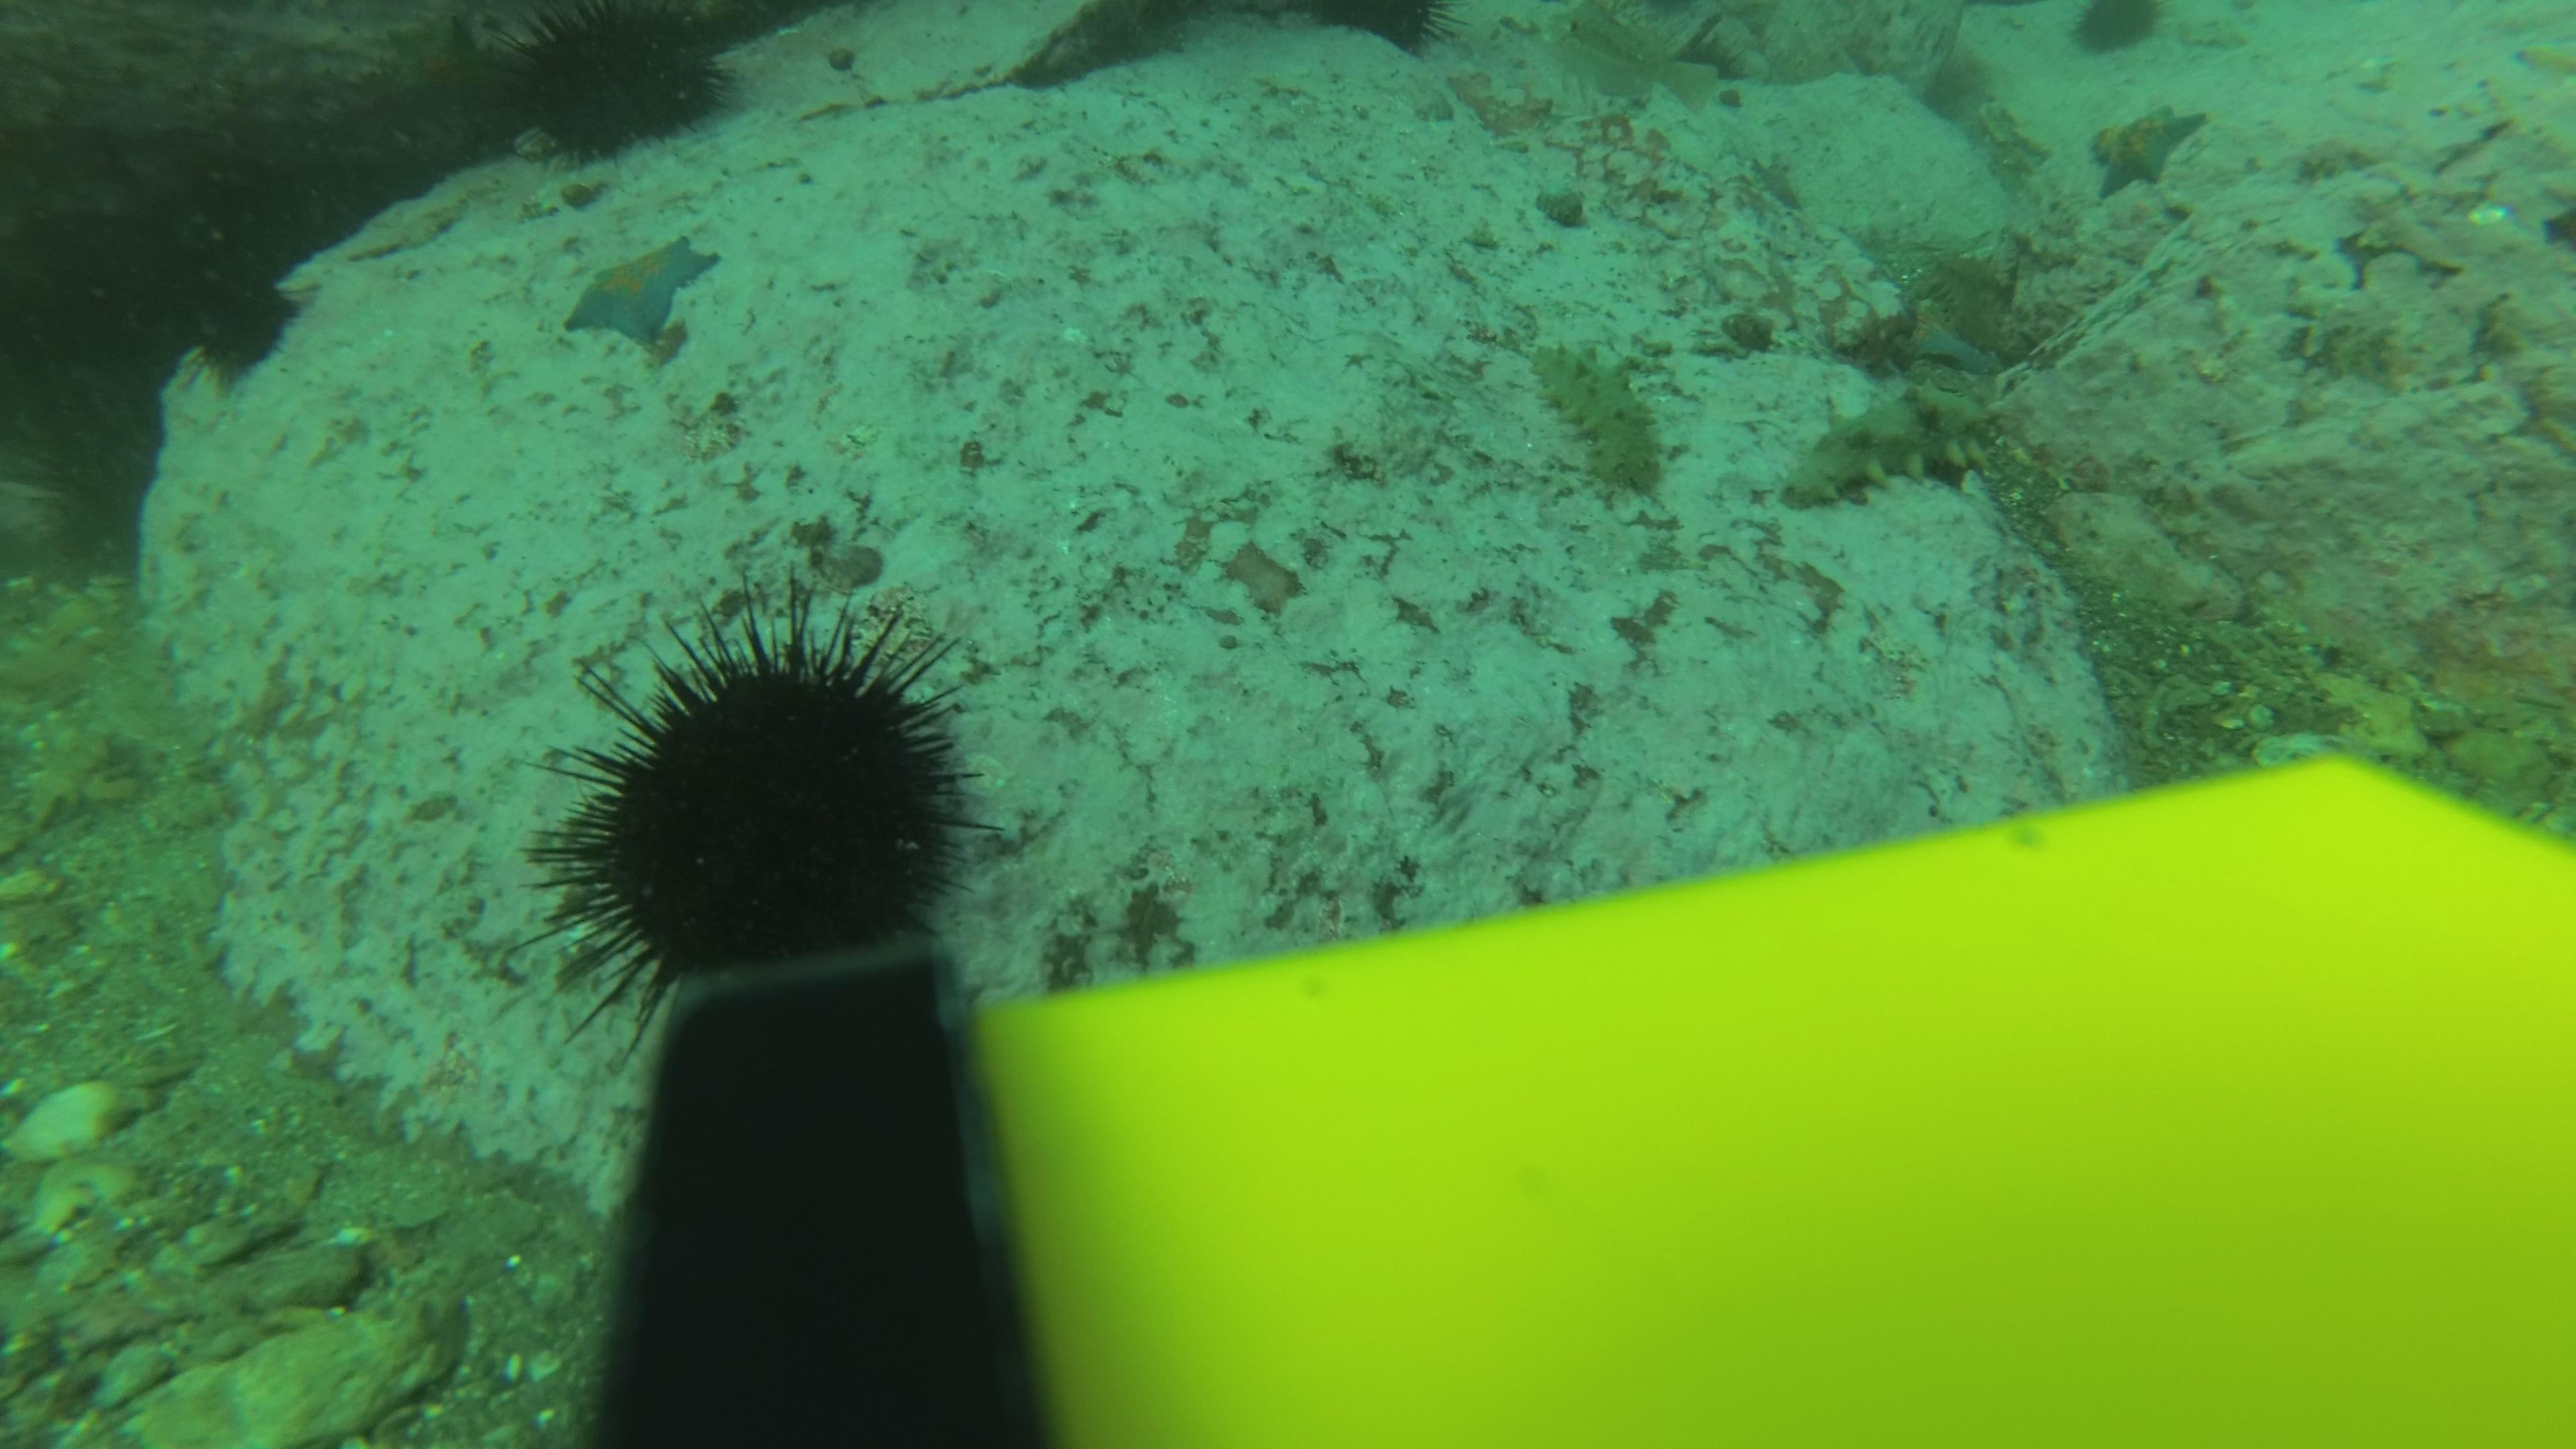echinus: (538, 593, 989, 1000), (495, 4, 741, 166), (179, 244, 310, 386), (1297, 0, 1458, 64), (2066, 0, 2169, 62)
holothurian: (1775, 372, 2022, 513), (1522, 329, 1677, 508)
starfish: (557, 230, 725, 354), (377, 7, 531, 140), (2086, 99, 2212, 202), (1900, 299, 2013, 379), (1971, 97, 2052, 175), (1737, 150, 1808, 216)
